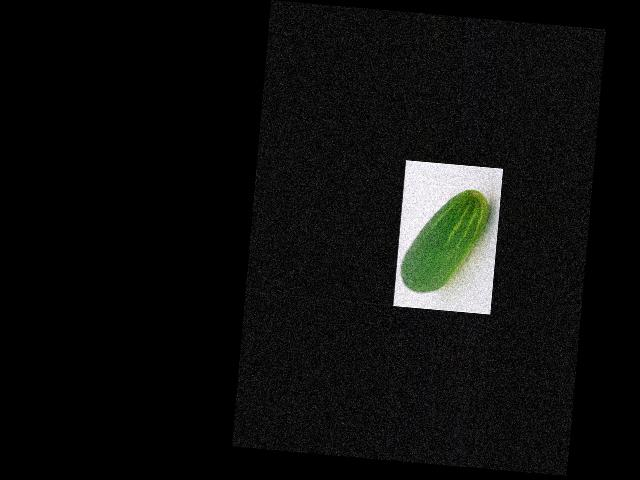cucumber: (399, 184, 490, 298)
